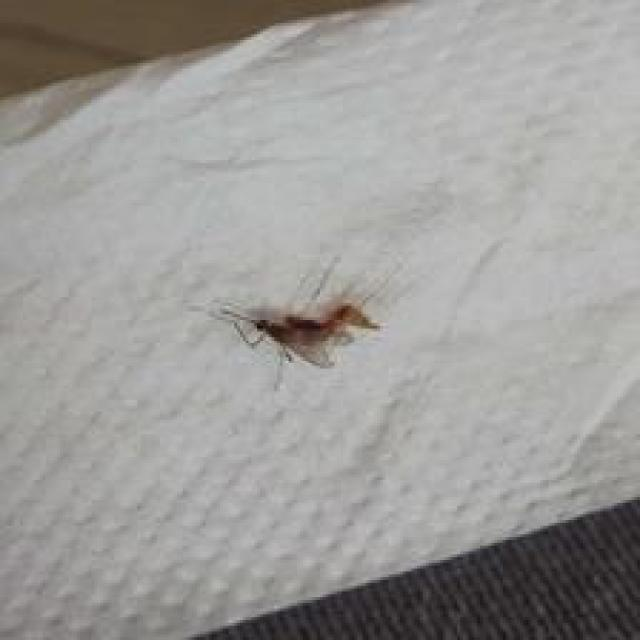Culex: (204, 253, 396, 390)
